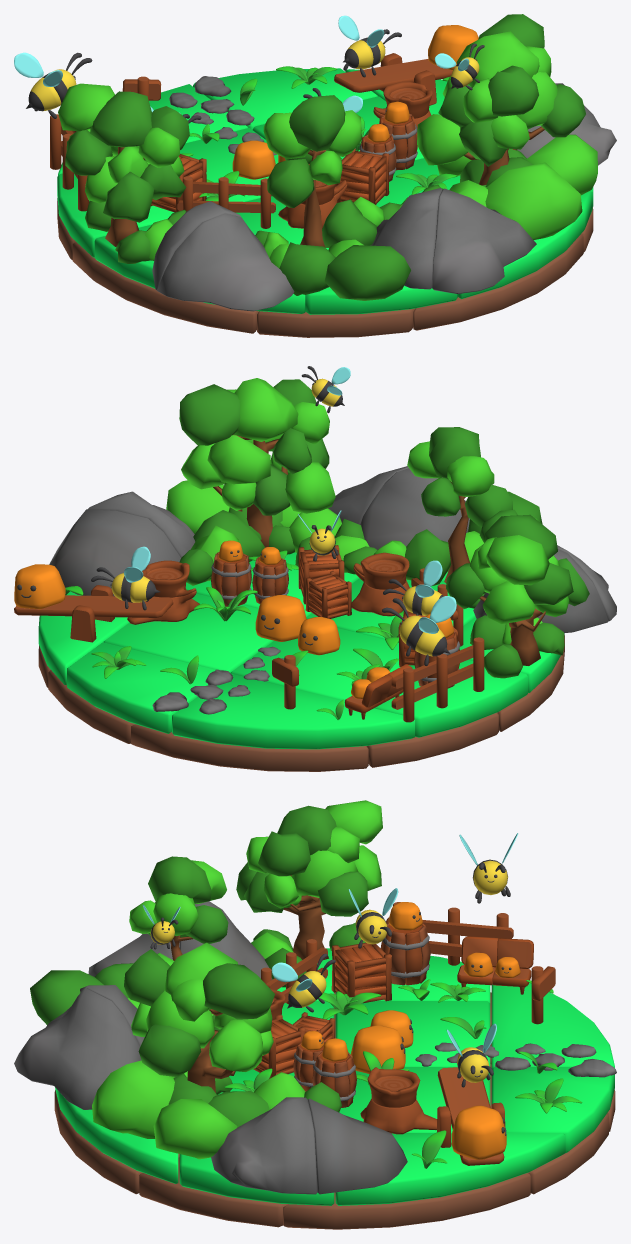
The model's file is Level_P_06.fbx.
3 views of the same model, one above another, from view 1: azimuth 30°, elevation 25°; view 2: azimuth 150°, elevation 25°; view 3: azimuth 270°, elevation 25° (orthographic). The views are drawn at different scales.
Visible parts, largest first — view 1: Rock01.003, Rock01.006, DarkGreenTree_mergedObject.031, Cylinder.019, Cylinder.021, Cylinder.012, Rock01.004, DarkGreenTree_mergedObject.043, Cylinder.020, DarkGreenTree_mergedObject.057, Cylinder.008, DarkGreenTree_mergedObject.032 (+69 smaller); view 2: Cylinder.002, Cylinder.012, Cylinder.015, Rock01.007, Cylinder.017, Cylinder.013, Rock01.004, Cylinder.004, Cylinder.018, DarkGreenTree_mergedObject.023, DarkGreenTree_mergedObject.021, Cylinder.011 (+75 smaller); view 3: Rock01.006, Cylinder.011, Rock01.002, Cylinder.012, Cylinder.002, Cylinder.023, Rock01.007, Cylinder.013, DarkGreenTree_mergedObject.031, Cylinder.022, DarkGreenTree_mergedObject.032, Cylinder.009 (+66 smaller).
Boxes of the visible parts, left/top/right/bottom form: Rock01.003: left=157, top=213, right=294, bottom=311; Rock01.006: left=432, top=188, right=536, bottom=293; DarkGreenTree_mergedObject.031: left=485, top=162, right=582, bottom=239; Cylinder.019: left=72, top=242, right=258, bottom=333; Cylinder.021: left=413, top=234, right=583, bottom=330; Cylinder.012: left=193, top=68, right=377, bottom=129; Rock01.004: left=370, top=188, right=442, bottom=289; DarkGreenTree_mergedObject.043: left=324, top=245, right=410, bottom=300; Cylinder.020: left=257, top=308, right=415, bottom=337; DarkGreenTree_mergedObject.057: left=90, top=91, right=151, bottom=147; Cylinder.008: left=305, top=285, right=457, bottom=314; DarkGreenTree_mergedObject.032: left=526, top=134, right=597, bottom=195; Cylinder.002: left=172, top=673, right=414, bottom=749; Cylinder.012: left=67, top=642, right=215, bottom=733; Cylinder.015: left=103, top=593, right=273, bottom=672; Rock01.007: left=49, top=509, right=180, bottom=596; Cylinder.017: left=131, top=724, right=368, bottom=771; Cylinder.013: left=230, top=628, right=409, bottom=700; Rock01.004: left=360, top=468, right=469, bottom=549; Cylinder.004: left=374, top=660, right=527, bottom=737; Cylinder.018: left=367, top=712, right=498, bottom=767; DarkGreenTree_mergedObject.023: left=179, top=384, right=240, bottom=445; DarkGreenTree_mergedObject.021: left=233, top=378, right=298, bottom=441; Cylinder.011: left=38, top=591, right=129, bottom=685; Rock01.006: left=14, top=988, right=141, bottom=1109; Cylinder.011: left=335, top=1133, right=565, bottom=1205; Rock01.002: left=211, top=1097, right=317, bottom=1194; Cylinder.012: left=491, top=1067, right=614, bottom=1152; Cylinder.002: left=491, top=982, right=614, bottom=1068; Cylinder.023: left=283, top=1173, right=530, bottom=1229; Rock01.007: left=308, top=1098, right=407, bottom=1194; Cylinder.013: left=335, top=1001, right=490, bottom=1066; DarkGreenTree_mergedObject.031: left=92, top=1060, right=174, bottom=1138; Cylinder.022: left=139, top=1157, right=288, bottom=1227; DarkGreenTree_mergedObject.032: left=153, top=1099, right=237, bottom=1159; Cylinder.009: left=55, top=1087, right=178, bottom=1183.
Size of the model in its own units: 37.17 by 15.16 by 35.65.
